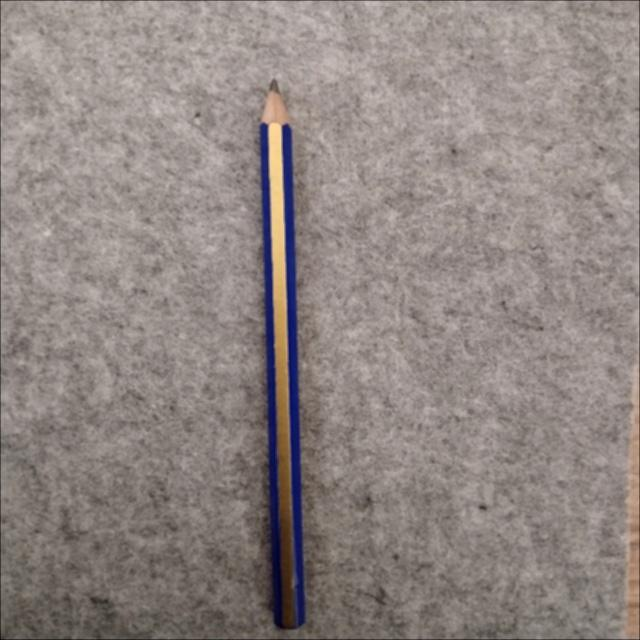pencil: (260, 80, 304, 627)
